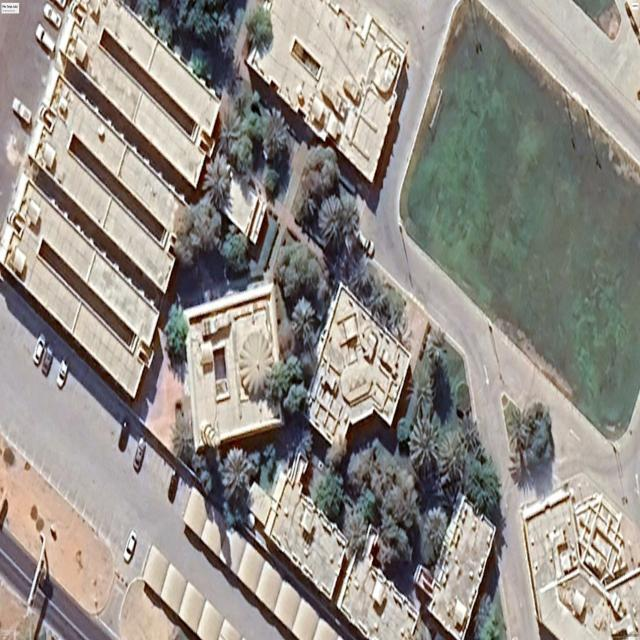mosque: (184, 283, 281, 453)
